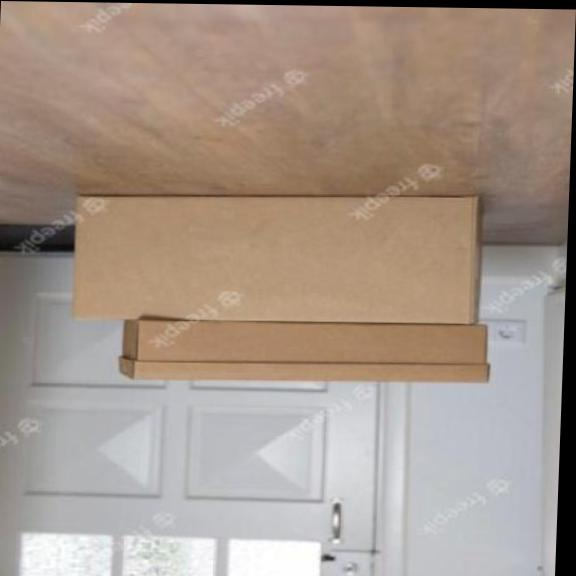Kertas: (13, 185, 483, 322), (119, 318, 488, 381)
